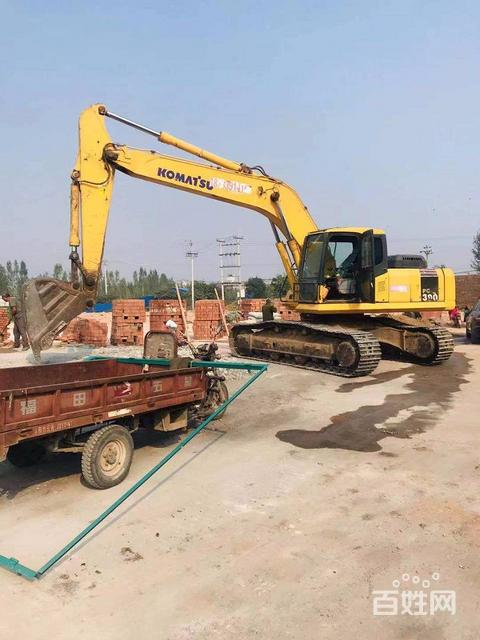excavator: (14, 97, 466, 388)
